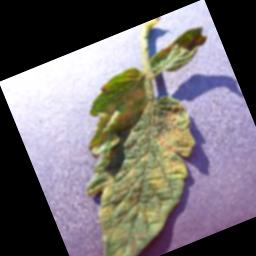Leaf_Mold: (41, 54, 232, 256), (156, 24, 209, 62)
